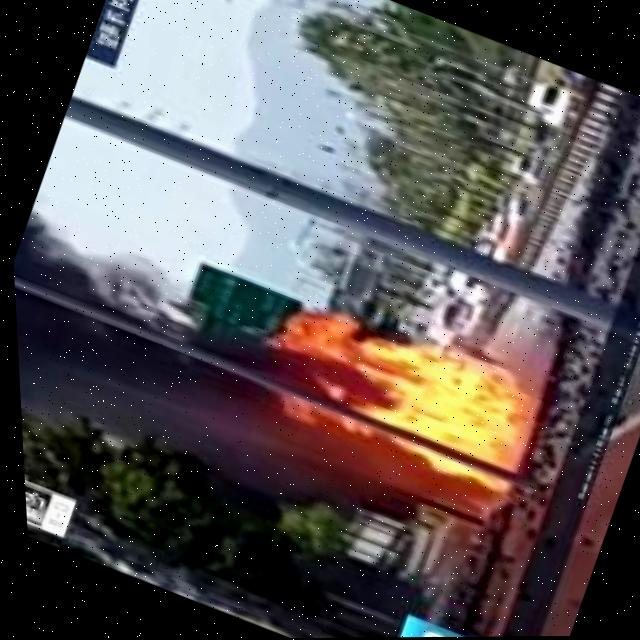Fire: (336, 320, 555, 491)
Smoke: (8, 204, 366, 511)
